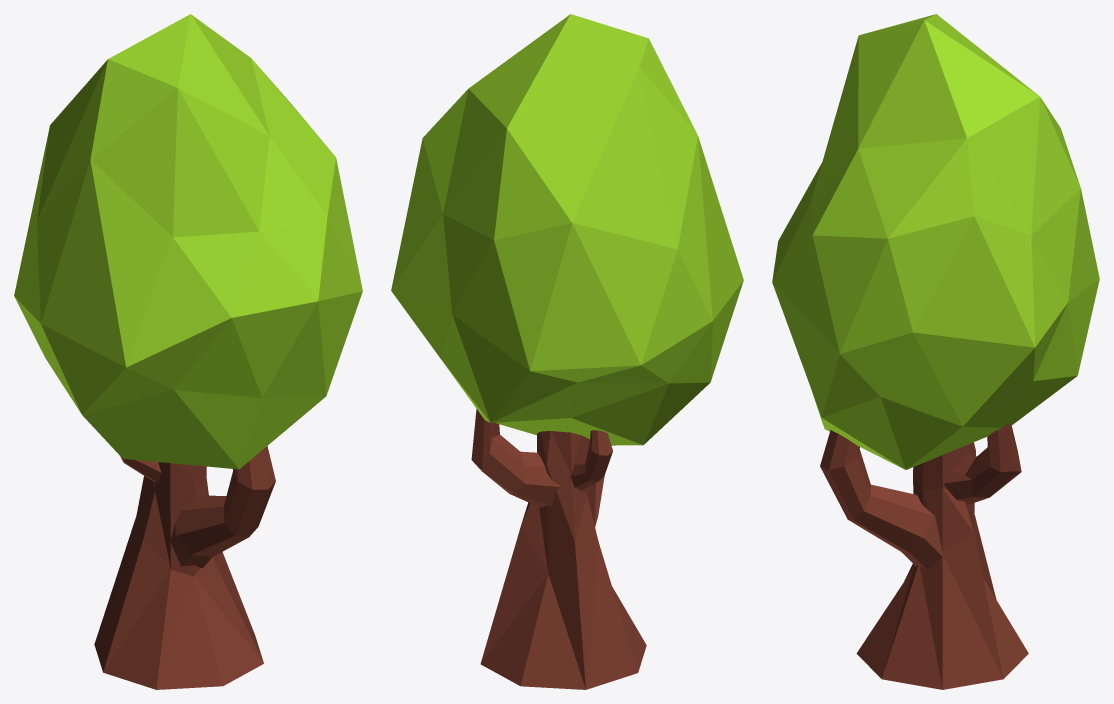
The model's file is object_landscape_tree_coniferous_adult.glb.
3 renders of one model, left to right at view 1: azimuth 30°, elevation 25°; view 2: azimuth 150°, elevation 25°; view 3: azimuth 270°, elevation 25°, orthographic. The views are drawn at different scales.
Parts seen in each view (by area): view 1: object_landscape_tree_coniferous_adult; view 2: object_landscape_tree_coniferous_adult; view 3: object_landscape_tree_coniferous_adult.
Part boxes in pixels (x1,y1,x2,y2): object_landscape_tree_coniferous_adult: (14,14,362,689); object_landscape_tree_coniferous_adult: (391,14,743,689); object_landscape_tree_coniferous_adult: (772,14,1099,689).
Bounding box in the file's own units: 0.4092 × 0.8539 × 0.3997.
